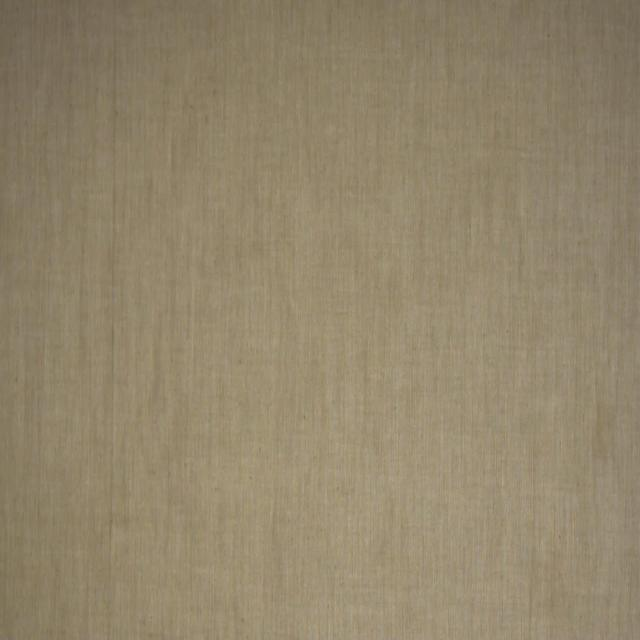dirty: (593, 416, 607, 454)
